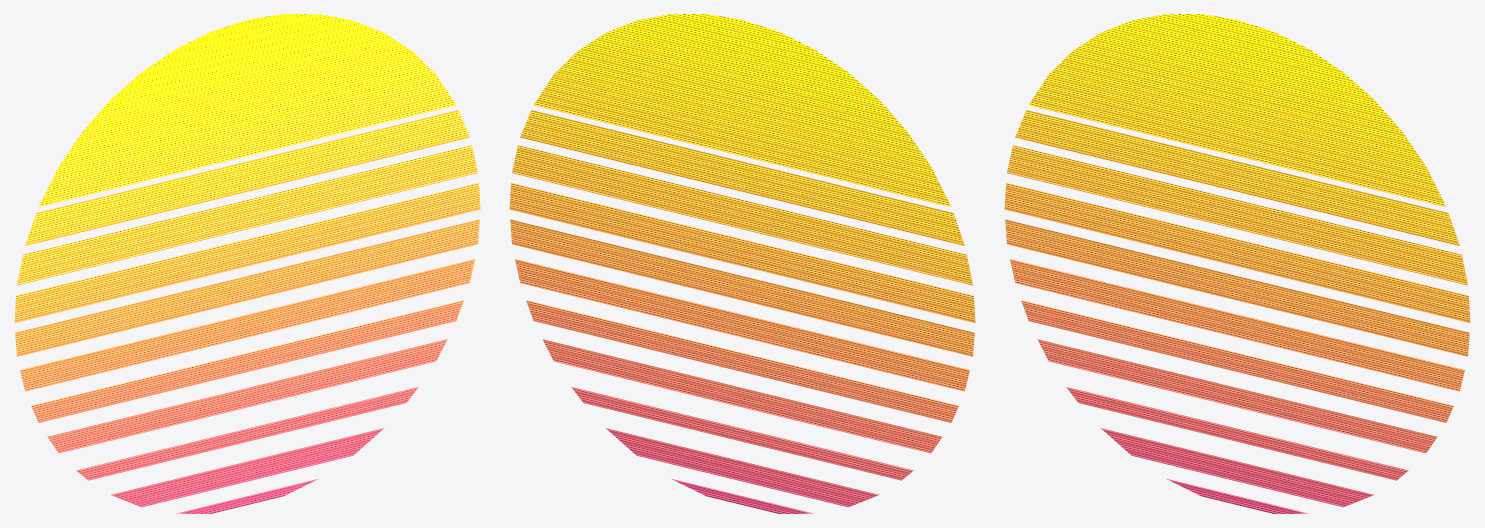
File: sun.glb
3 renders of one model, left to right at view 1: azimuth 30°, elevation 25°; view 2: azimuth 150°, elevation 25°; view 3: azimuth 330°, elevation 25°, orthographic.
Visible parts, largest first — view 1: sun_51; view 2: sun_51; view 3: sun_51.
Boxes of the visible parts, box(x1,y1,x2,y2) form: sun_51: box(14, 14, 480, 513); sun_51: box(509, 14, 975, 513); sun_51: box(1004, 14, 1470, 513).
Size of the model in its own units: 18.12 by 18.03 by 7.6e-06.
1 material, 1 textured.
